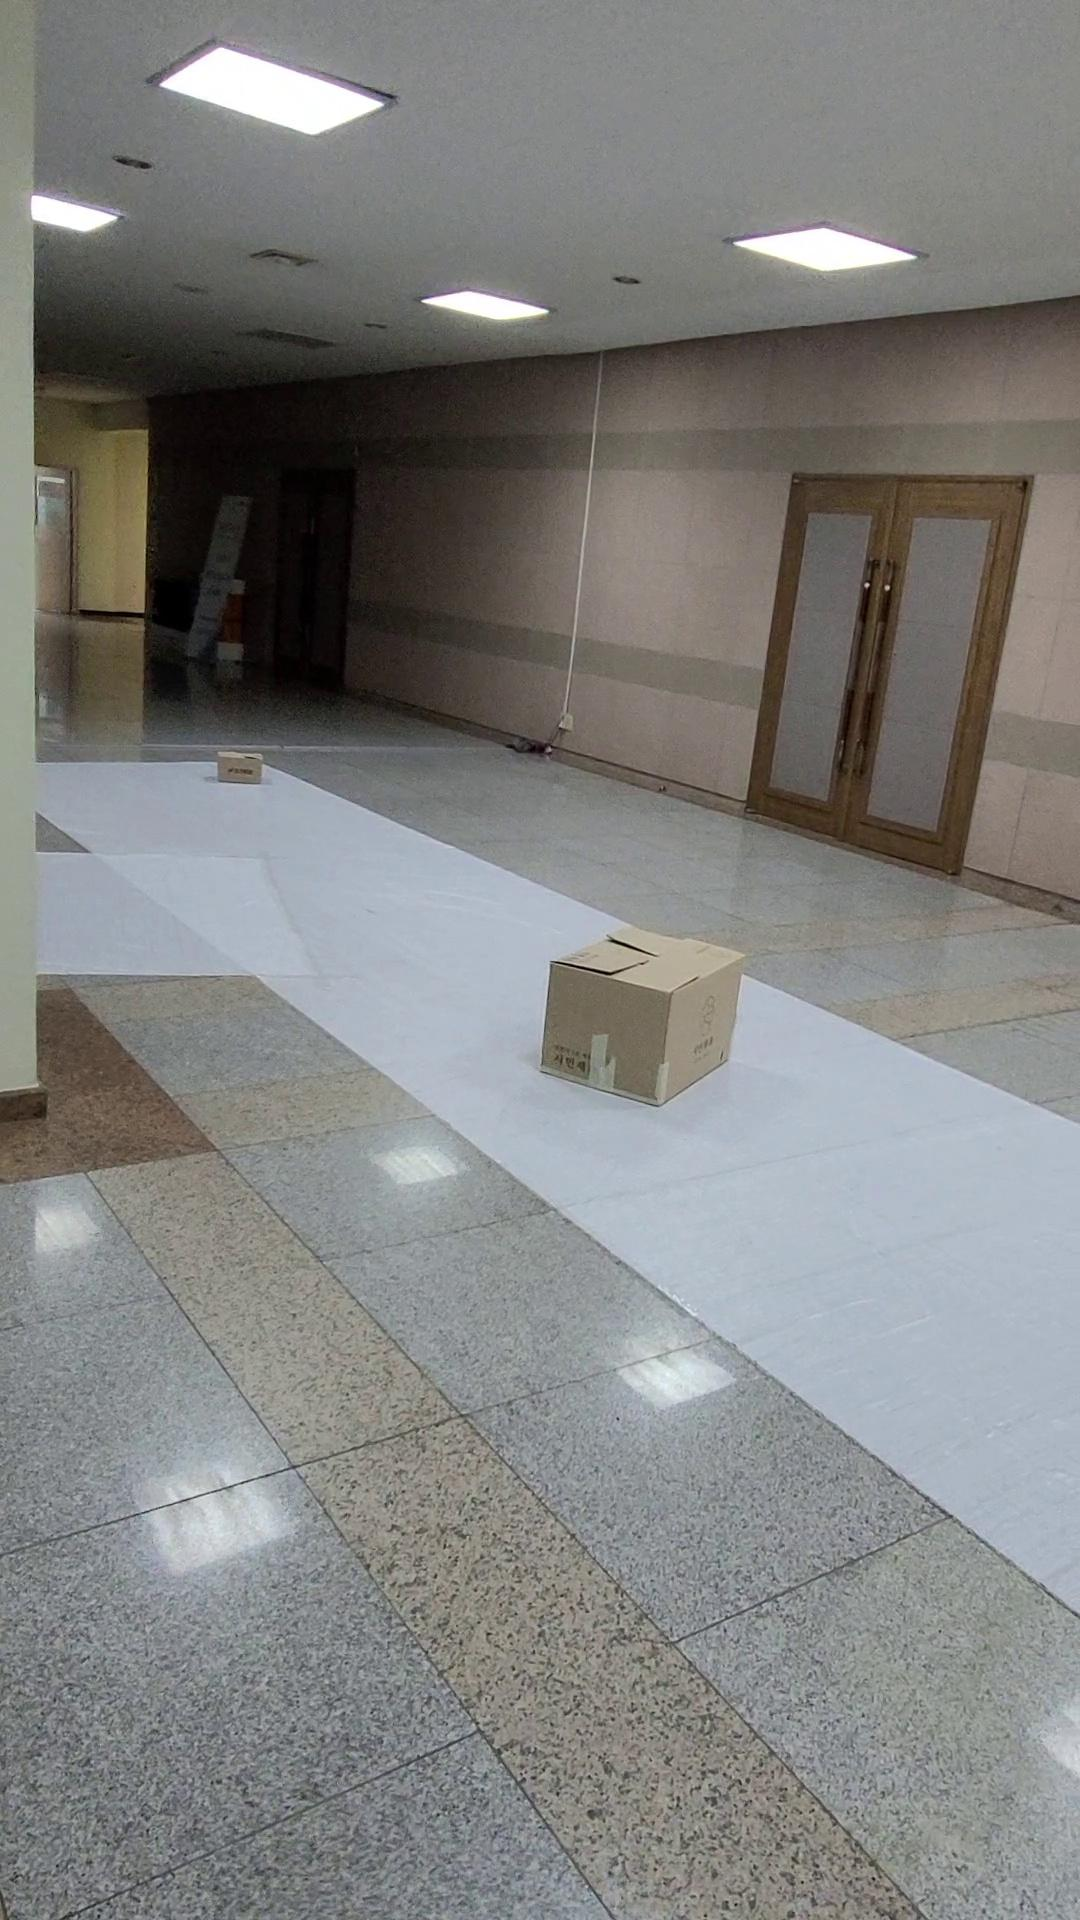Box: (496, 885, 782, 1127), (186, 725, 280, 818)
